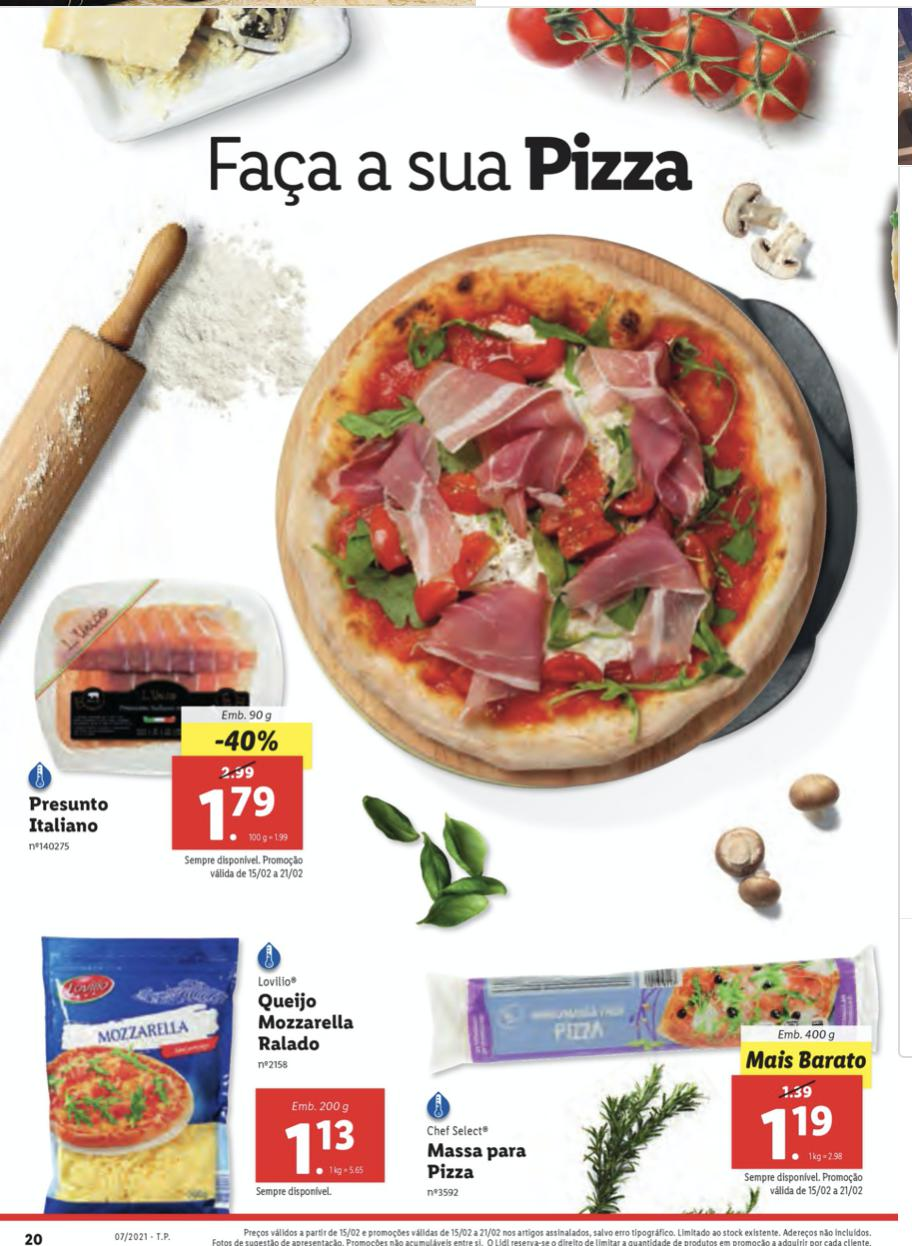name: (253, 990, 360, 1054), (424, 1138, 531, 1182), (24, 793, 116, 838)
price: (754, 1102, 836, 1168), (197, 781, 280, 845), (284, 1116, 360, 1181)
product: (416, 954, 896, 1208), (25, 905, 405, 1202), (11, 568, 328, 896)
promotion: (210, 727, 282, 758)
